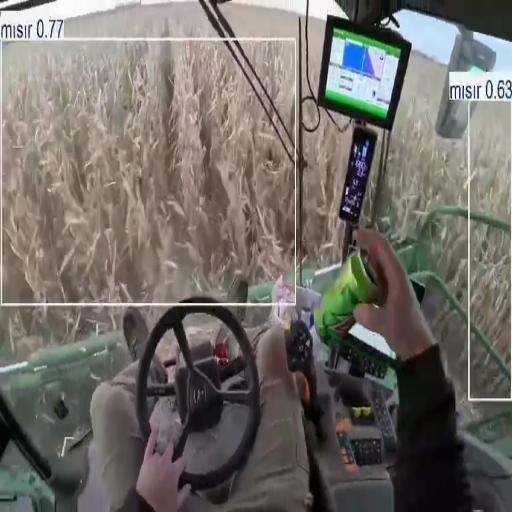misir: (2, 42, 292, 302), (304, 126, 347, 256)
